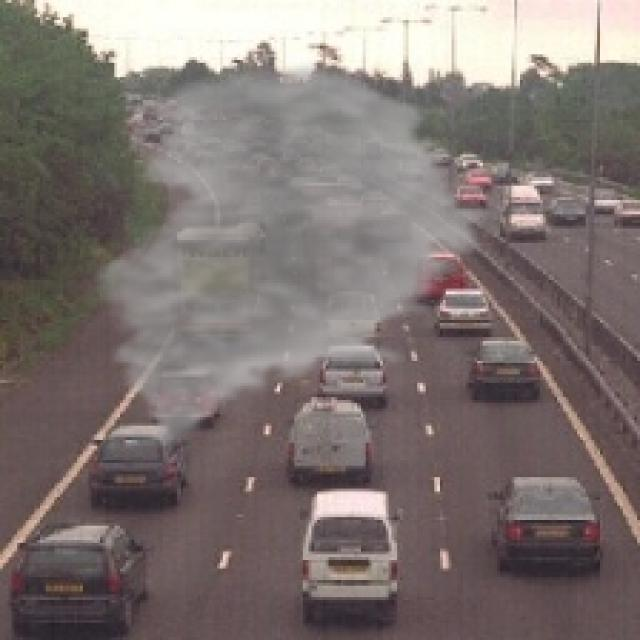Smoke: (82, 59, 498, 452)
